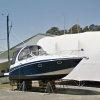Boat: (5, 41, 92, 92)
